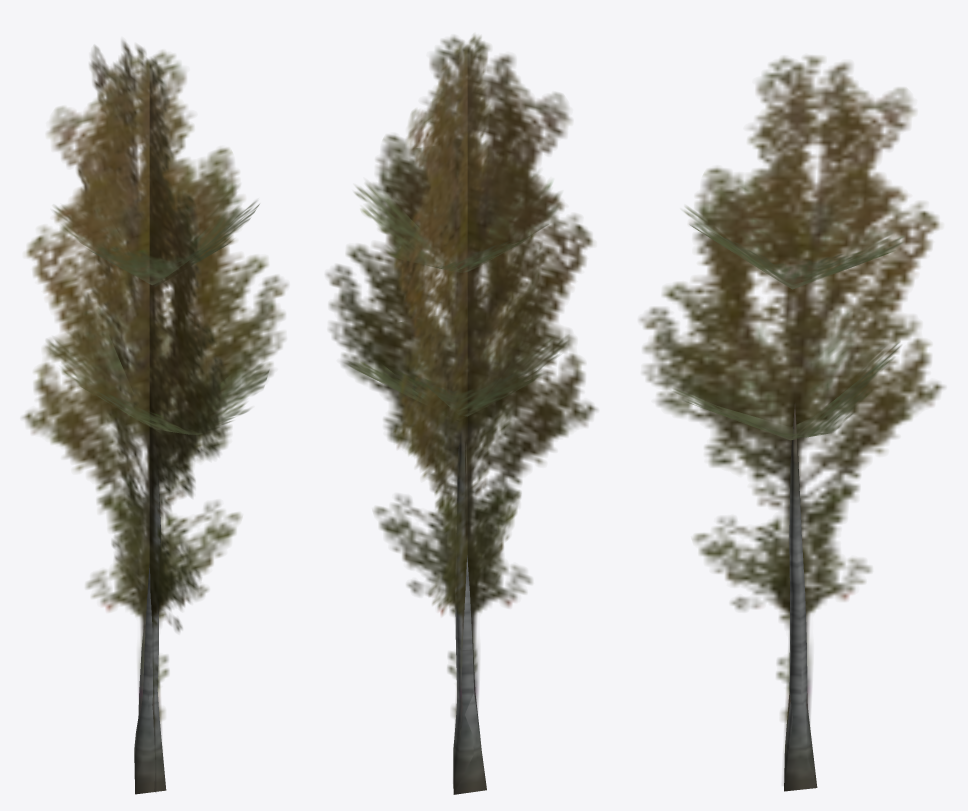
Rendered from distant-tree-02.glb.
3 renders of one model, left to right at view 1: azimuth 30°, elevation 25°; view 2: azimuth 150°, elevation 25°; view 3: azimuth 270°, elevation 25°, orthographic. The views are drawn at different scales.
Visible parts, largest first — view 1: Background_Tree_Atlas.001; view 2: Background_Tree_Atlas.001; view 3: Background_Tree_Atlas.001.
Part boxes in pixels (<box>): Background_Tree_Atlas.001: <box>22,40,287,794</box>; Background_Tree_Atlas.001: <box>326,34,597,794</box>; Background_Tree_Atlas.001: <box>639,55,944,791</box>.
Size of the model in its own units: 1140 by 2926 by 1140.
1 material, 1 textured.
